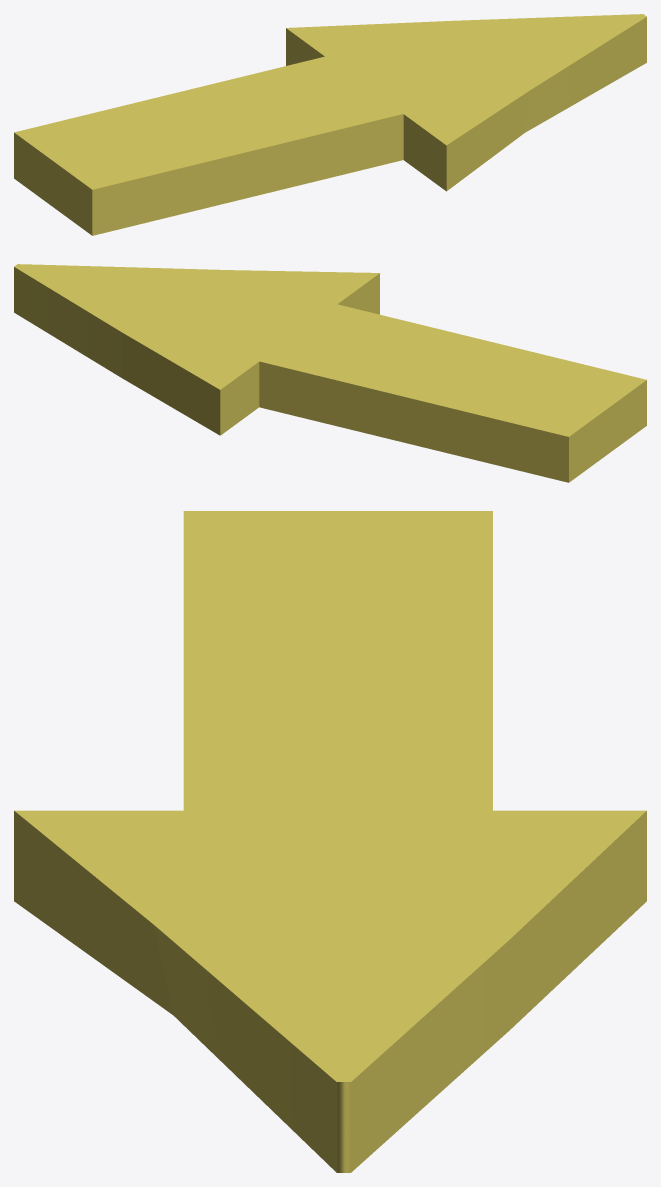
The model's file is Arrow.fbx.
3 views of the same model, one above another, from view 1: azimuth 30°, elevation 25°; view 2: azimuth 150°, elevation 25°; view 3: azimuth 270°, elevation 25° (orthographic). The views are drawn at different scales.
Parts seen in each view (by area): view 1: polySurface1; view 2: polySurface1; view 3: polySurface1.
Boxes of the visible parts, left/top/right/bottom form: polySurface1: left=14, top=14, right=646, bottom=235; polySurface1: left=14, top=264, right=646, bottom=482; polySurface1: left=14, top=511, right=646, bottom=1172.
Bounding box in the file's own units: 3146 × 234 × 1474.
